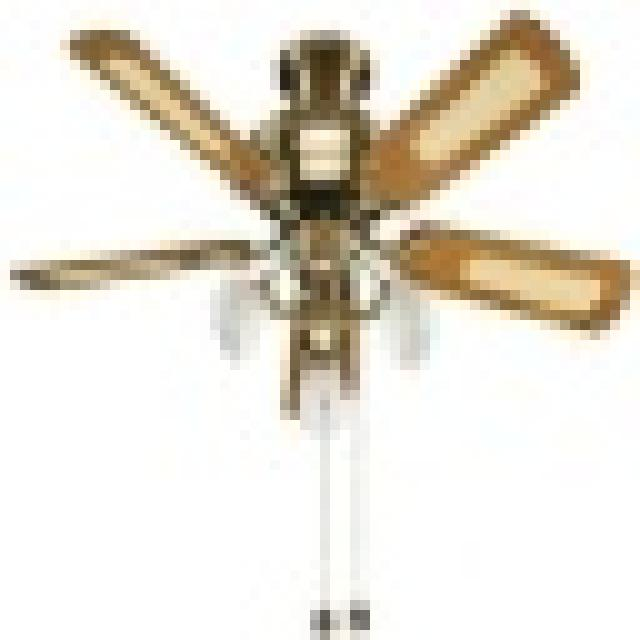Bulb: (5, 18, 640, 435)
